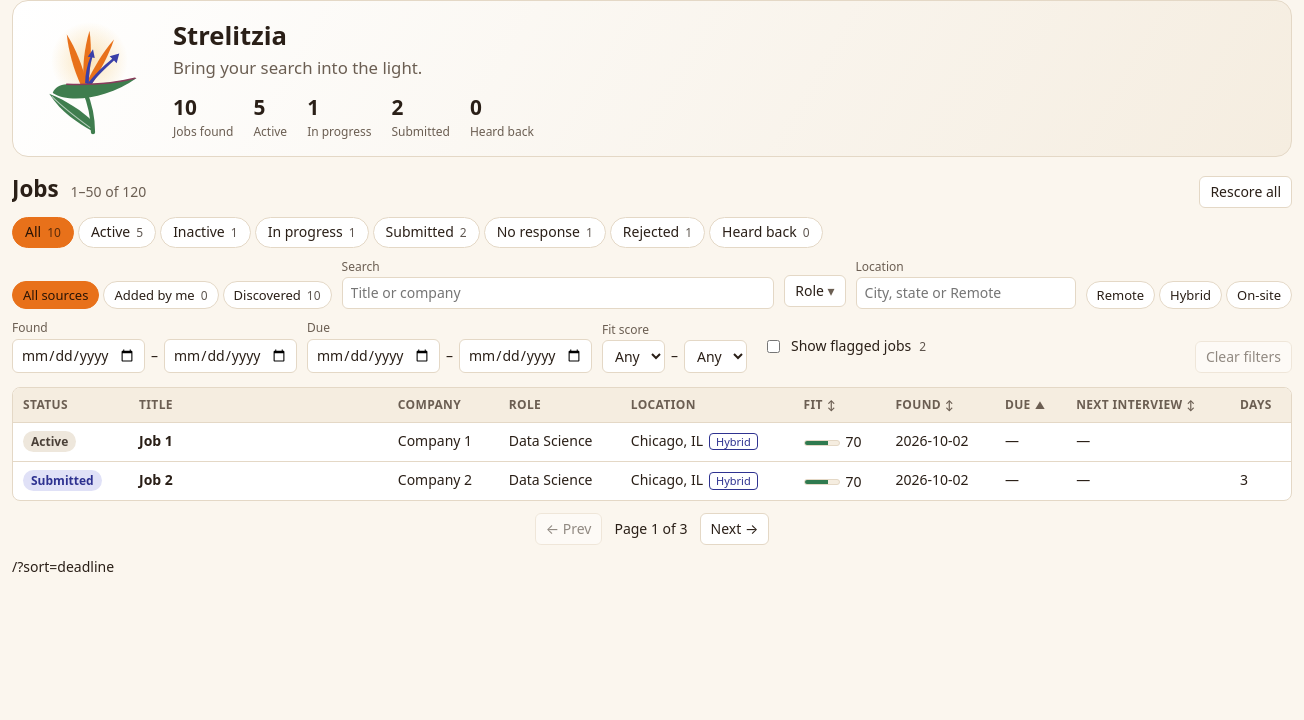
Test: JobsPage › pages through results
The image size is (1304, 720).
Expected: the link "Job 1" is shown, [139,430,173,450]
Click the button "Next →".
click(734, 529)  # box [700,513,769,545]
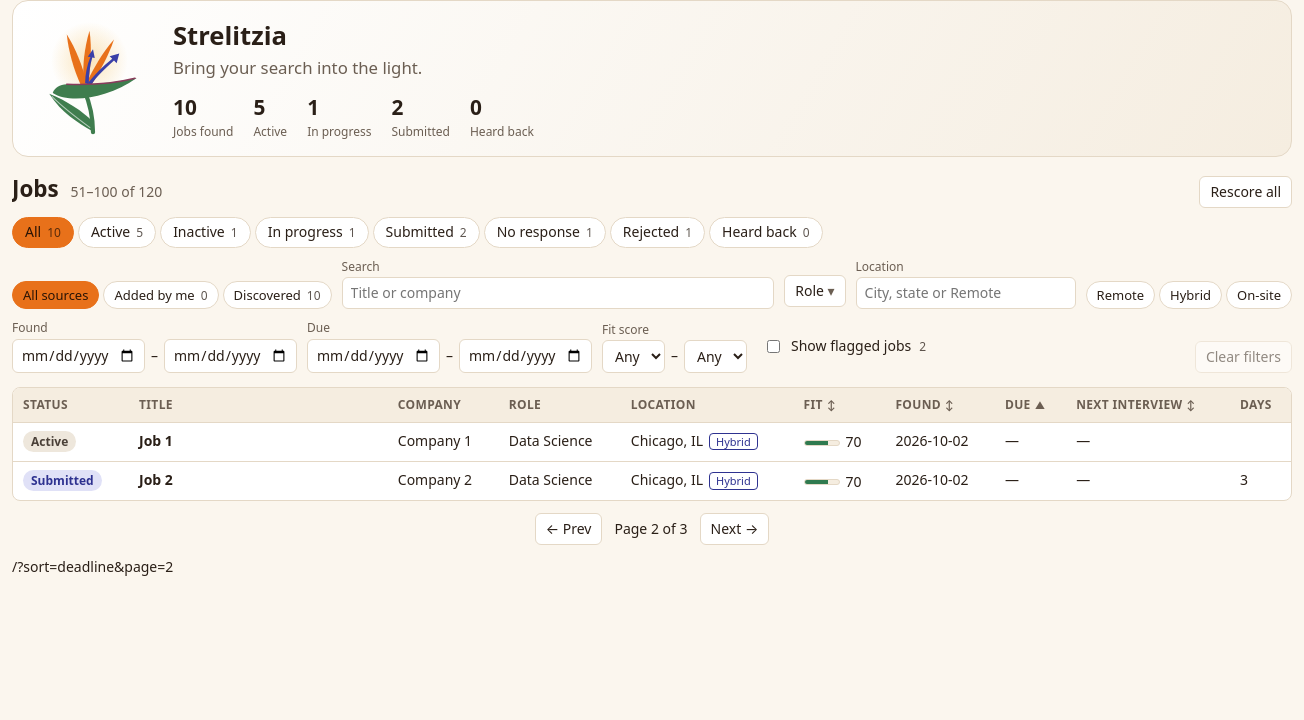
Result: the text with test id "location" reads "/?sort=deadline&page=2" at [12,557,173,576]
